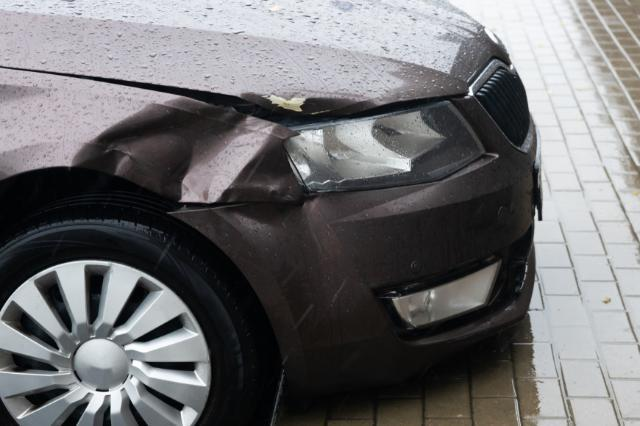Bumper: (186, 152, 544, 389)
Fender: (0, 68, 308, 224)
